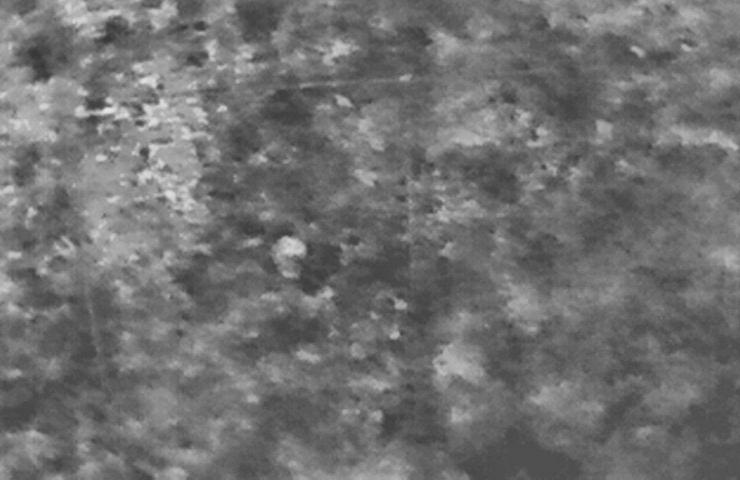landmines: (272, 233, 311, 267)
